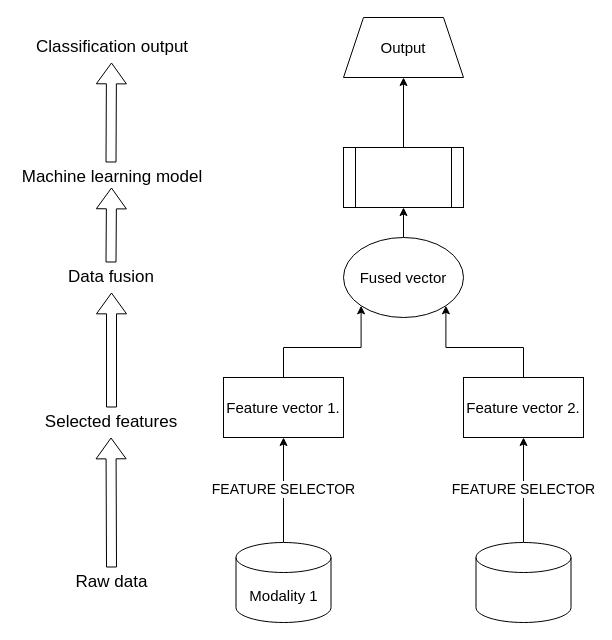
This 612x640 diagram has some shape labels left out. The shapes that lost their labels are listed below. From the top down, each one's box as (x1, y1, x2, y2) in pixels, then its label:
(342, 146, 464, 208): Model
(475, 542, 571, 622): Modality 2
